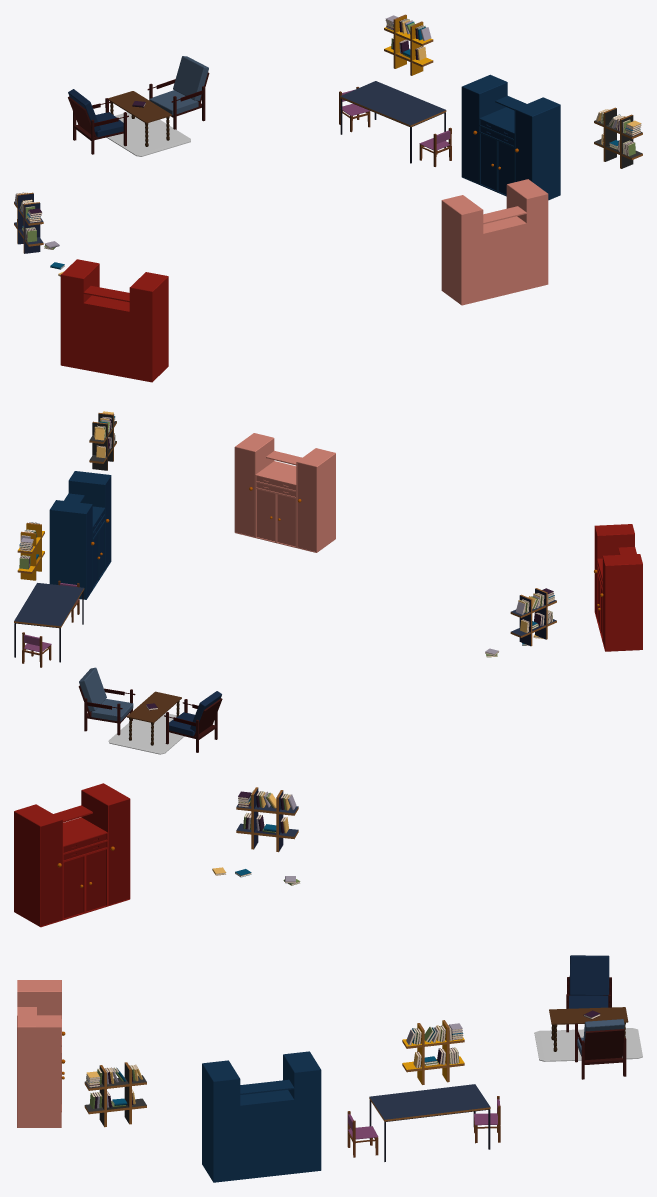
The model's file is FornitureFBXs.fbx.
3 views of the same model, one above another, from view 1: azimuth 30°, elevation 25°; view 2: azimuth 150°, elevation 25°; view 3: azimuth 270°, elevation 25° (orthographic). The views are drawn at different scales.
Parts seen in each view (by area): view 1: ClosetV2, ClosetV3, ClosetV1, Table, KidsTable, Couch_V2, WallShelf_Yellow, WallShelf_Grey, Couch_V1, WallShelf_Blue, KidsChair2; view 2: ClosetV2, ClosetV1, ClosetV3, Table, KidsTable, Couch_V2, WallShelf_Blue, Couch_V1, WallShelf_Grey, WallShelf_Yellow, KidsChair1; view 3: ClosetV3, ClosetV1, ClosetV2, KidsTable, Table, WallShelf_Blue, WallShelf_Grey, WallShelf_Yellow, Couch_V1, Couch_V2, KidsChair2.
Part boxes in pixels (box(x1,y1,x2,y2)): ClosetV2: box(441, 179, 548, 305); ClosetV3: box(60, 259, 168, 382); ClosetV1: box(461, 74, 560, 200); Table: box(106, 91, 190, 156); KidsTable: box(340, 81, 446, 163); Couch_V2: box(147, 56, 209, 129); WallShelf_Yellow: box(384, 14, 433, 75); WallShelf_Grey: box(594, 107, 642, 168); Couch_V1: box(68, 89, 128, 154); WallShelf_Blue: box(14, 192, 43, 253); KidsChair2: box(419, 127, 451, 166); ClosetV2: box(234, 433, 335, 552); ClosetV1: box(49, 471, 111, 599); ClosetV3: box(594, 524, 642, 651); Table: box(108, 691, 184, 754); KidsTable: box(14, 583, 84, 662); Couch_V2: box(78, 667, 135, 735); WallShelf_Blue: box(510, 588, 556, 646); Couch_V1: box(164, 691, 222, 752); WallShelf_Grey: box(89, 411, 116, 470); WallShelf_Yellow: box(17, 522, 44, 580); KidsChair1: box(22, 632, 51, 667); ClosetV3: box(14, 783, 130, 927); ClosetV1: box(202, 1051, 321, 1182); ClosetV2: box(17, 980, 65, 1127); KidsTable: box(369, 1084, 490, 1161); Table: box(534, 1007, 642, 1061); WallShelf_Blue: box(236, 787, 298, 852); WallShelf_Grey: box(84, 1062, 146, 1127); WallShelf_Yellow: box(402, 1020, 464, 1084); Couch_V1: box(566, 955, 611, 1032); Couch_V2: box(575, 1019, 626, 1079); KidsChair2: box(347, 1111, 378, 1157).
Bounding box in the file's own units: 1722 × 330 × 1464.
